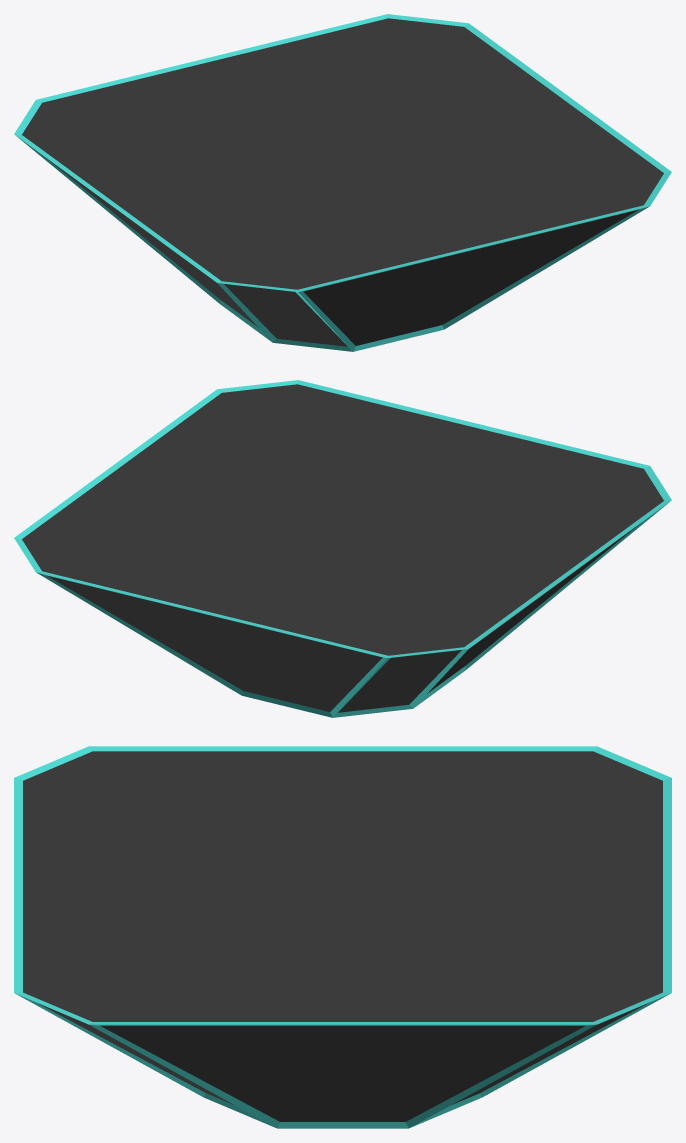
The model's file is platform_edges.fbx.
3 renders of one model, top to bottom at view 1: azimuth 30°, elevation 25°; view 2: azimuth 150°, elevation 25°; view 3: azimuth 270°, elevation 25°, orthographic. The views are drawn at different scales.
Visible parts, largest first — view 1: Platform; view 2: Platform; view 3: Platform.
Boxes of the visible parts, x1=… form: Platform: x1=14, y1=14, x2=671, y2=351; Platform: x1=14, y1=380, x2=671, y2=717; Platform: x1=14, y1=746, x2=671, y2=1128.
Size of the model in its own units: 239 by 73.8 by 239.
